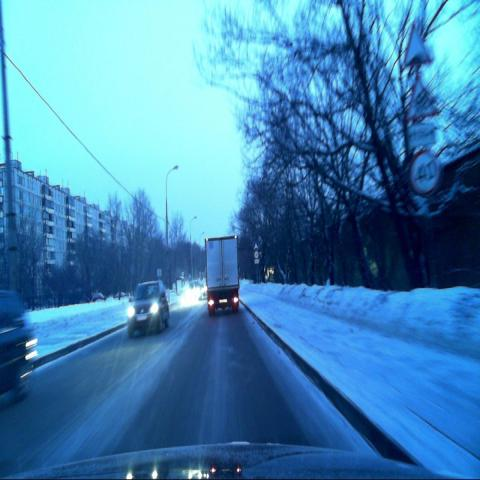8_2_1: (407, 124, 437, 145)
